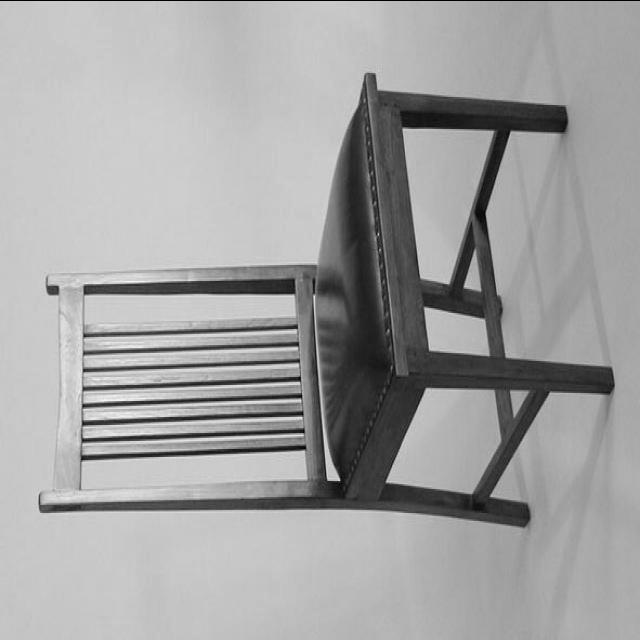chair: (38, 66, 612, 526)
